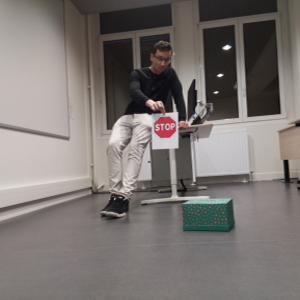stop: (154, 116, 177, 139)
